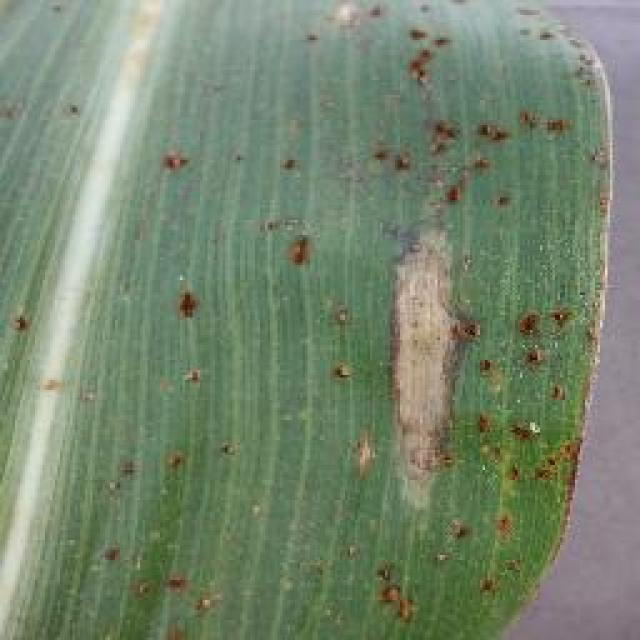Corn___Northern_Leaf_Blight: (8, 2, 630, 640)
